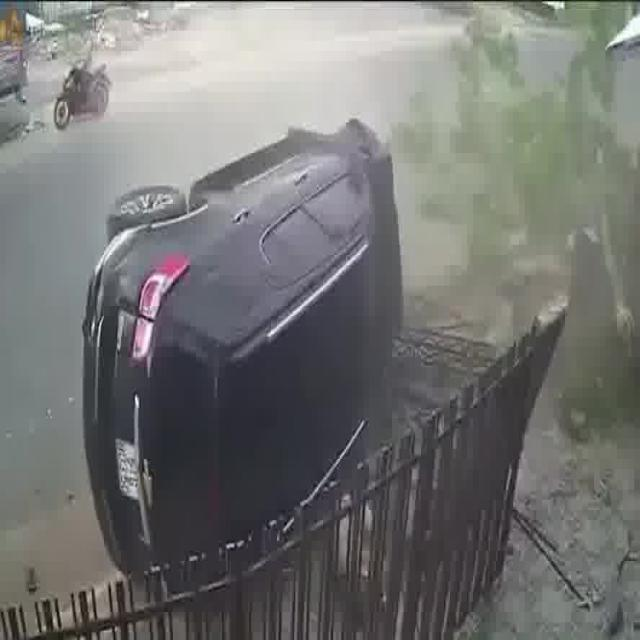single accident: (77, 105, 431, 640)
